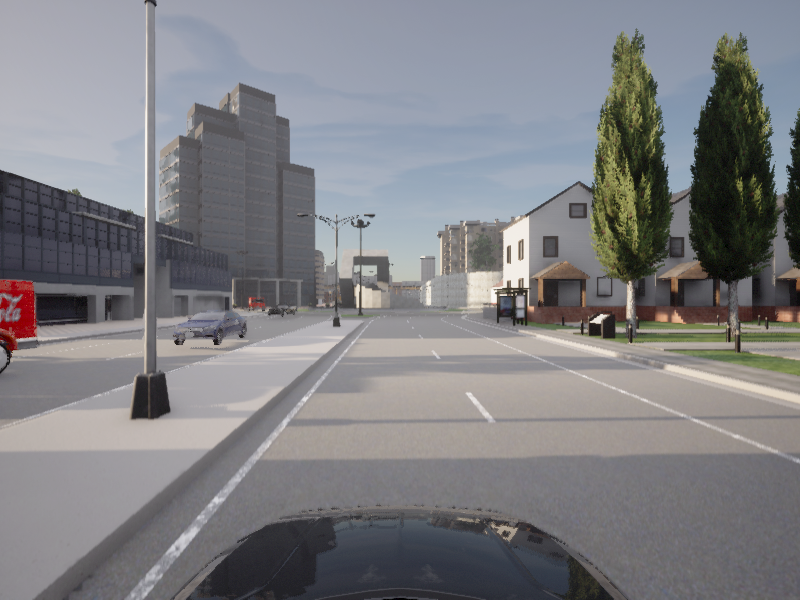vehicle: (0, 262, 45, 411), (166, 307, 252, 346), (264, 301, 300, 317)
